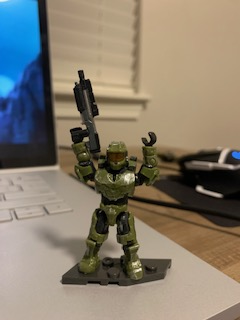chief: (69, 127, 159, 282)
rifle: (68, 69, 103, 156)
spartan: (67, 125, 157, 280)
up: (68, 127, 160, 204)
